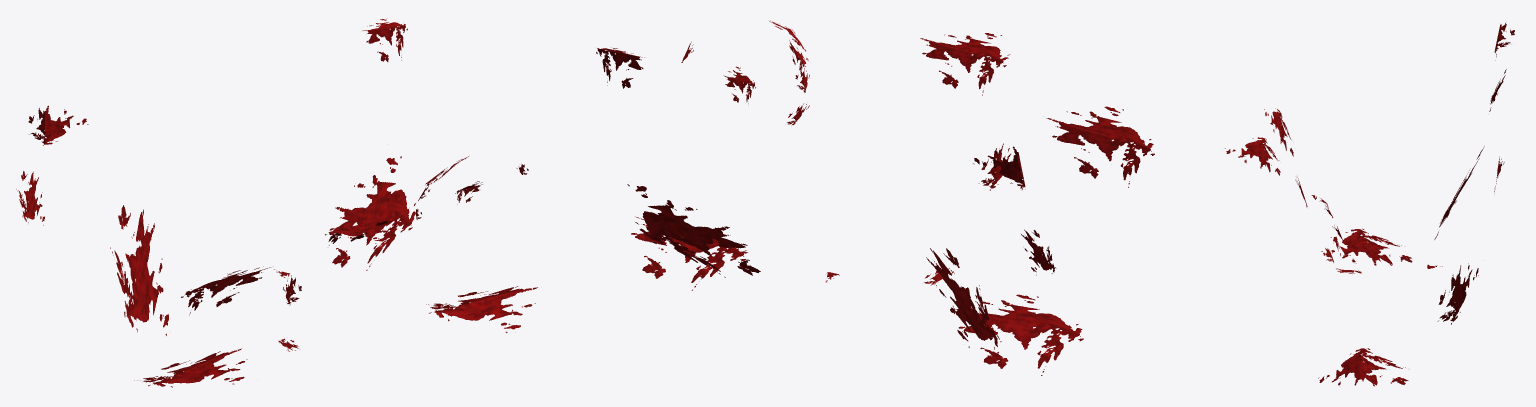
Rendered from WenNiDeChe_01_XueJi_01.FBX.
3 renders of one model, left to right at view 1: azimuth 30°, elevation 25°; view 2: azimuth 150°, elevation 25°; view 3: azimuth 270°, elevation 25°, orthographic. The views are drawn at different scales.
Parts seen in each view (by area): view 1: asdgfageaw; view 2: asdgfageaw; view 3: asdgfageaw.
Part boxes in pixels (x1=…): asdgfageaw: x1=16, y1=19, x2=537, y2=387; asdgfageaw: x1=596, y1=20, x2=1154, y2=375; asdgfageaw: x1=1225, y1=23, x2=1514, y2=386.
Bounding box in the file's own units: 542 × 290 × 371.
